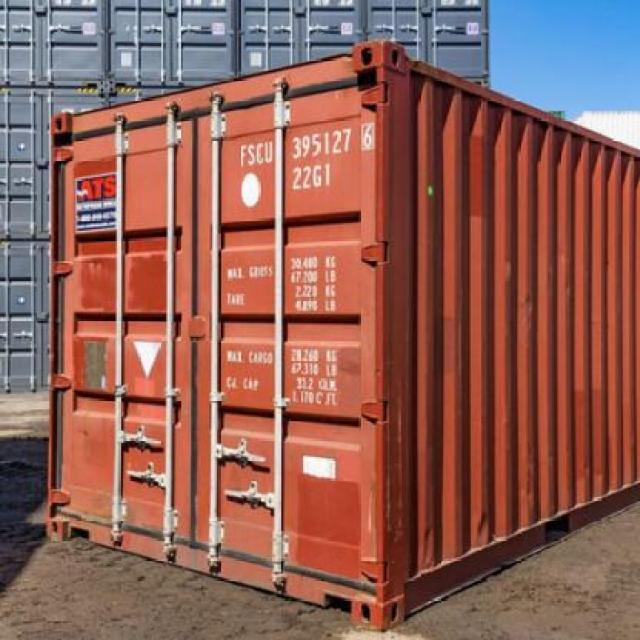ISO: (290, 163, 334, 190)
container_number: (240, 126, 376, 158)
